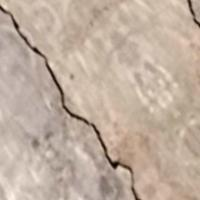crack: (1, 2, 139, 199)
